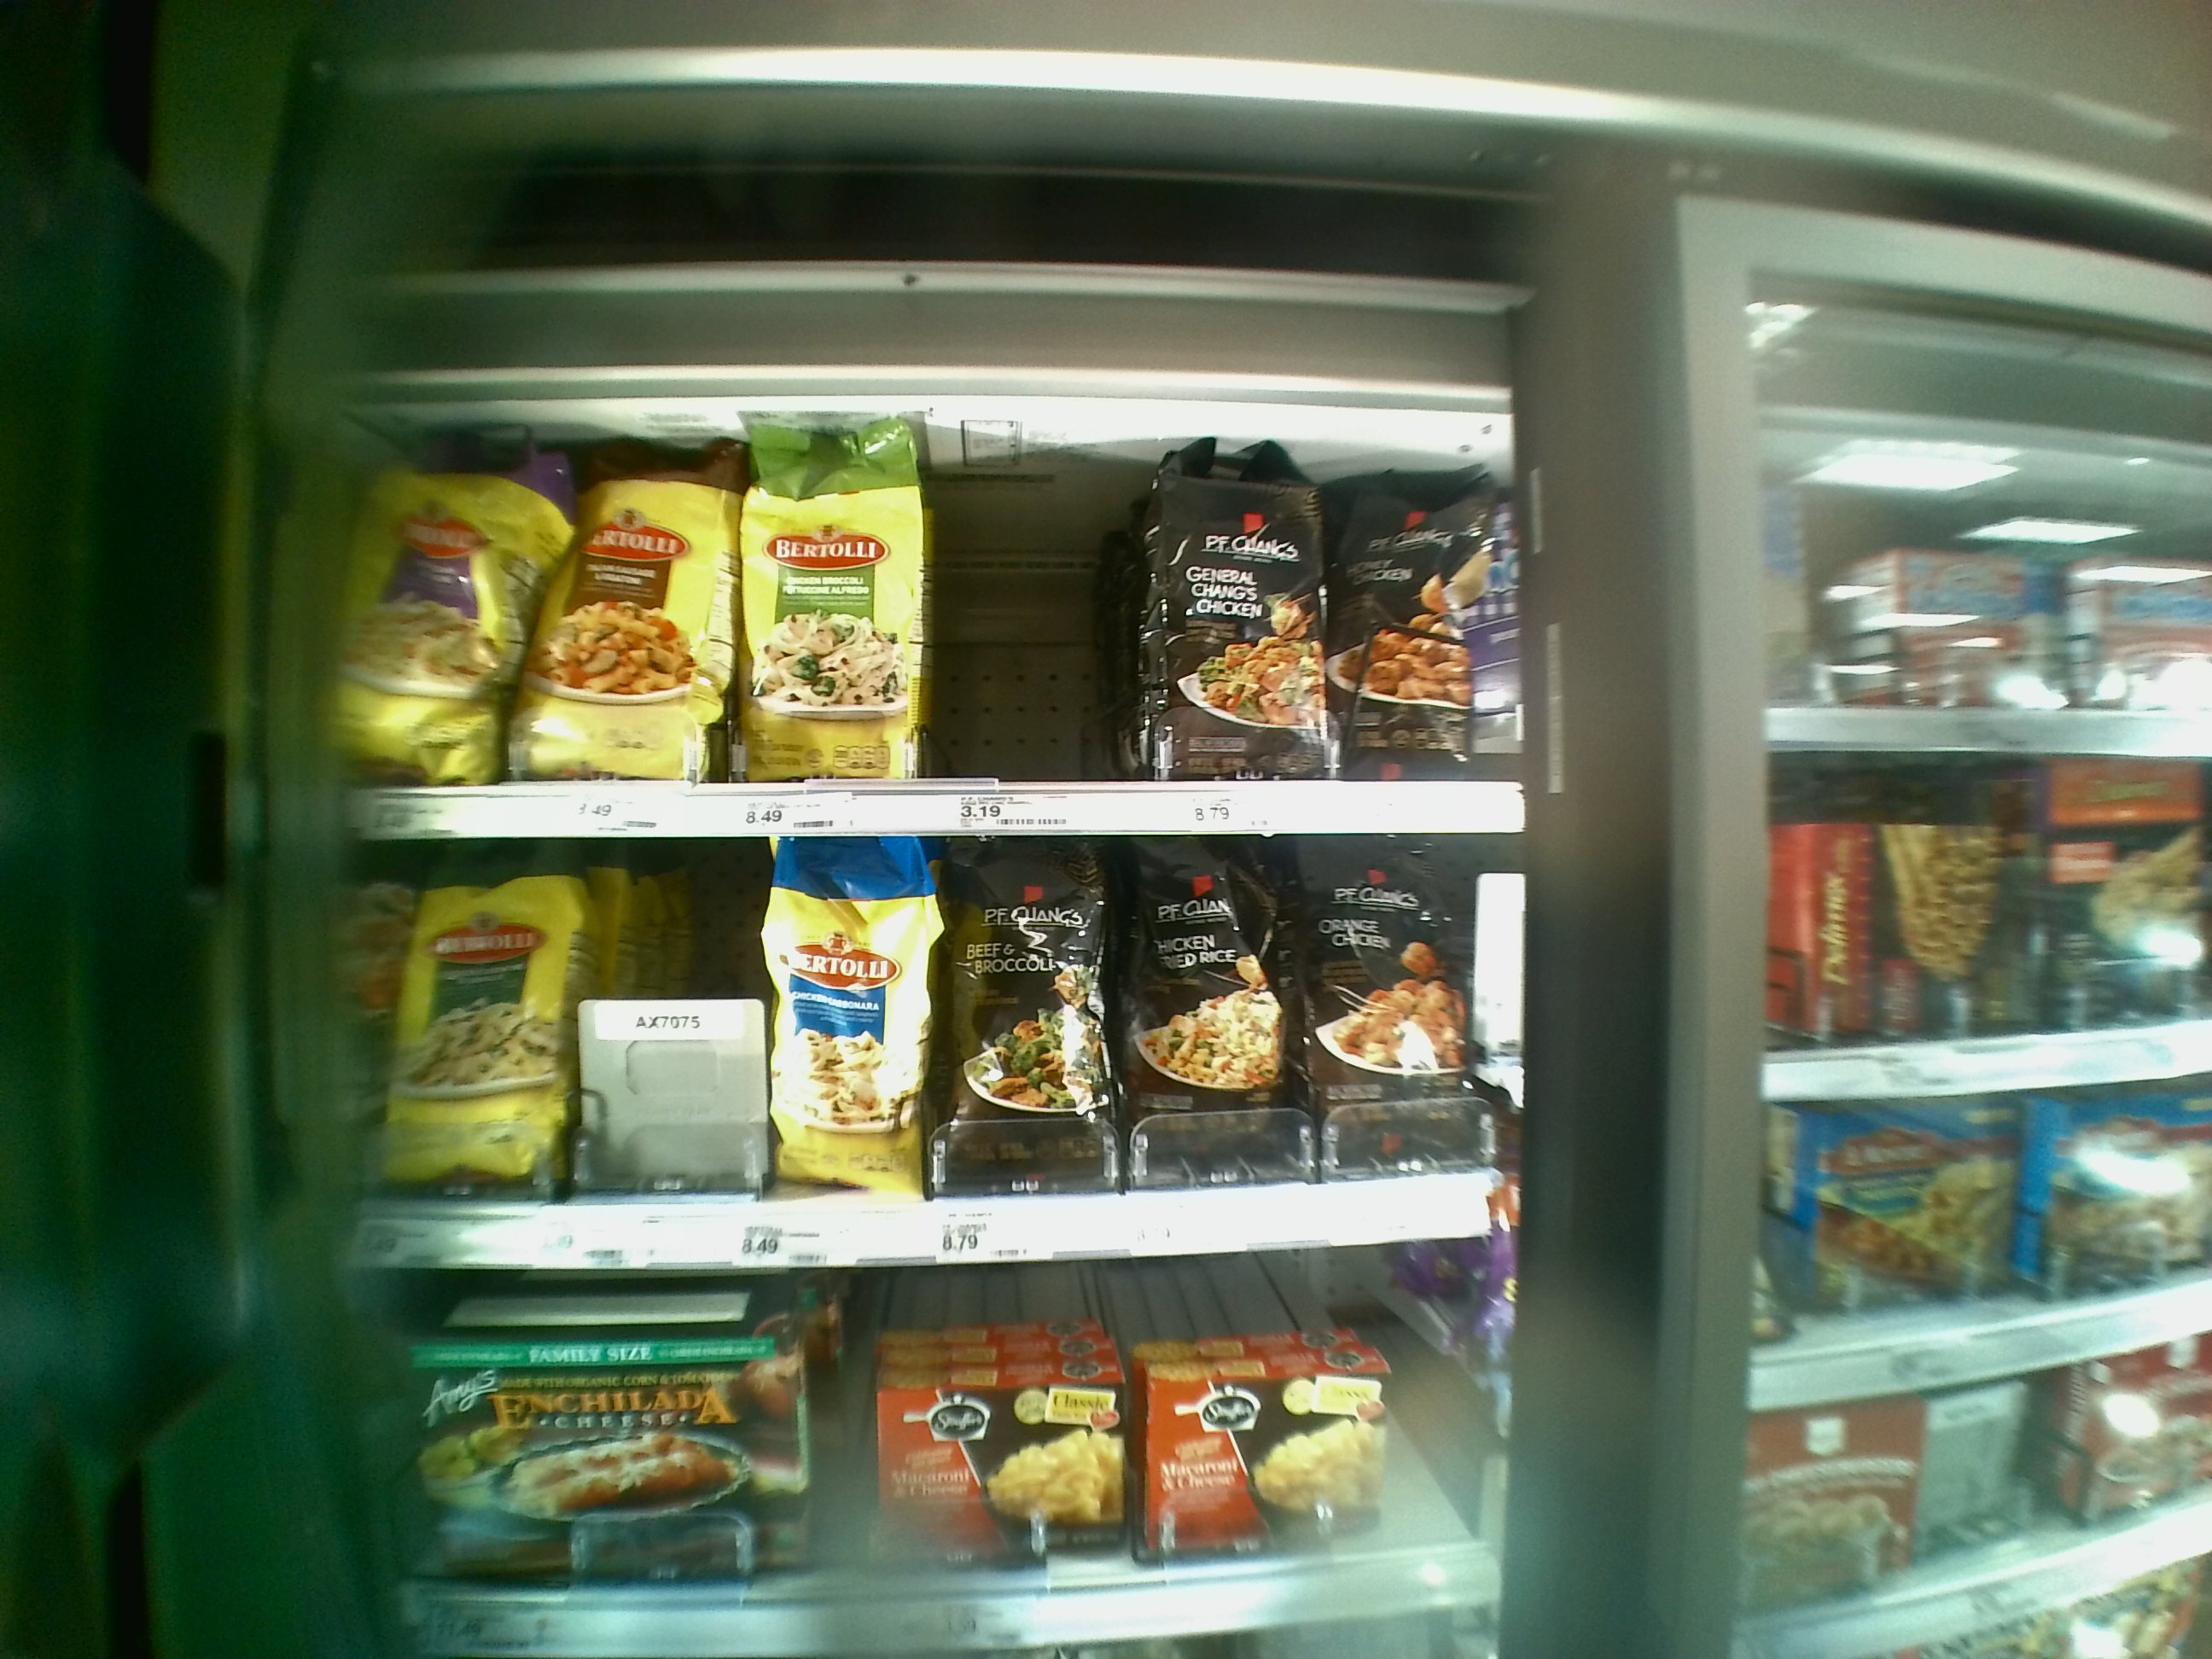shelf: (310, 389, 1522, 836), (326, 847, 1501, 1274), (357, 1276, 1498, 1659)
